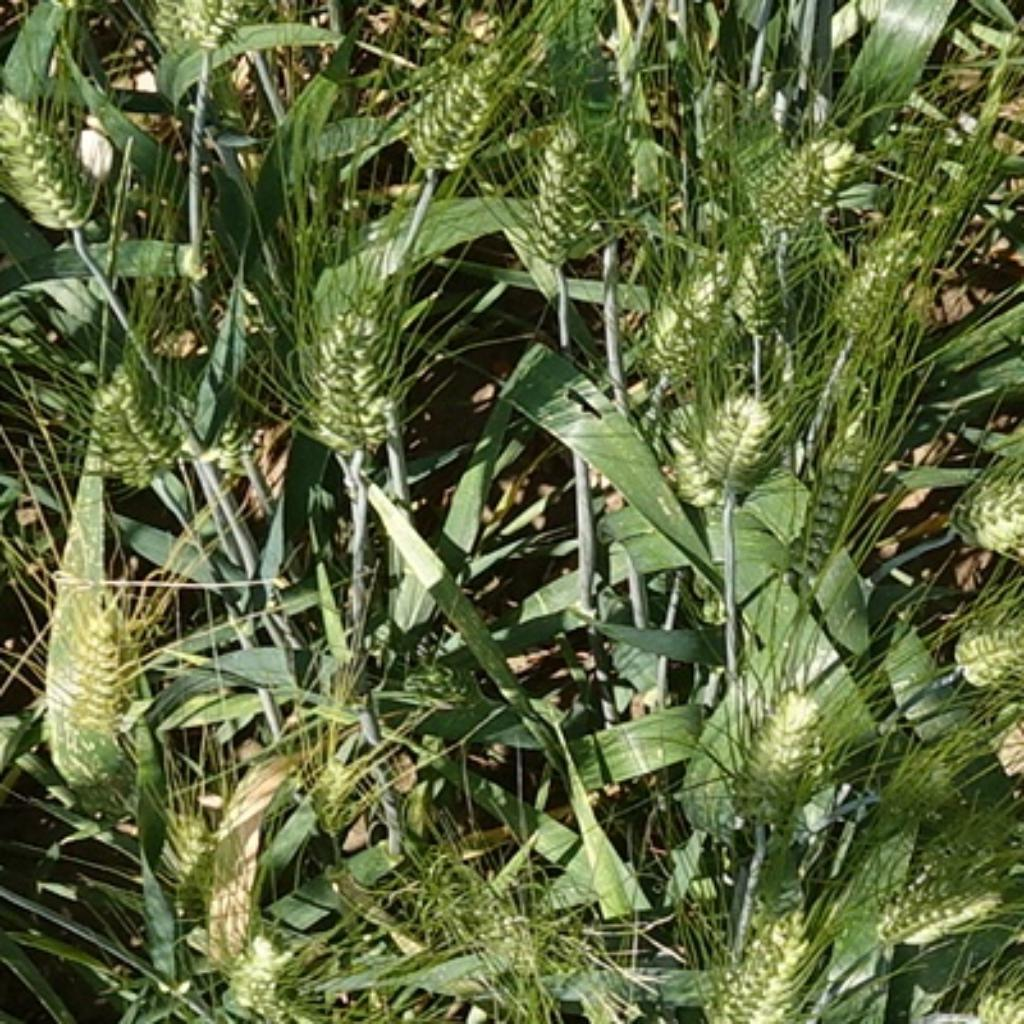0-0: (281, 294, 419, 463), (724, 660, 837, 834), (683, 896, 819, 1024), (396, 35, 522, 171), (2, 76, 104, 232), (514, 97, 609, 263), (821, 212, 931, 355), (660, 376, 780, 504), (791, 409, 890, 560), (752, 125, 860, 243), (867, 870, 1013, 947), (92, 355, 174, 489), (939, 440, 1024, 558), (630, 254, 715, 370), (54, 603, 127, 735), (944, 586, 1024, 686), (460, 903, 555, 983), (294, 742, 366, 826), (733, 243, 792, 343), (227, 931, 291, 1016), (156, 801, 217, 885), (153, 0, 245, 54)
